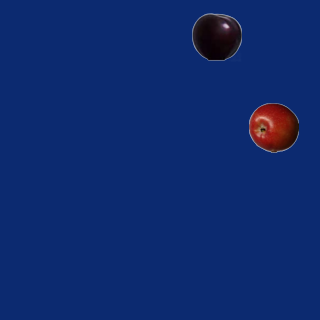Apple Braeburn: (248, 102, 298, 152)
Cherry Wax Black: (191, 11, 241, 61)
